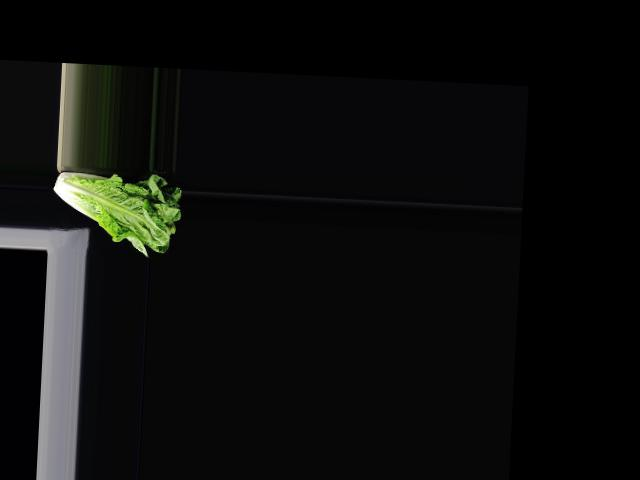lettuce: (49, 168, 185, 257)
